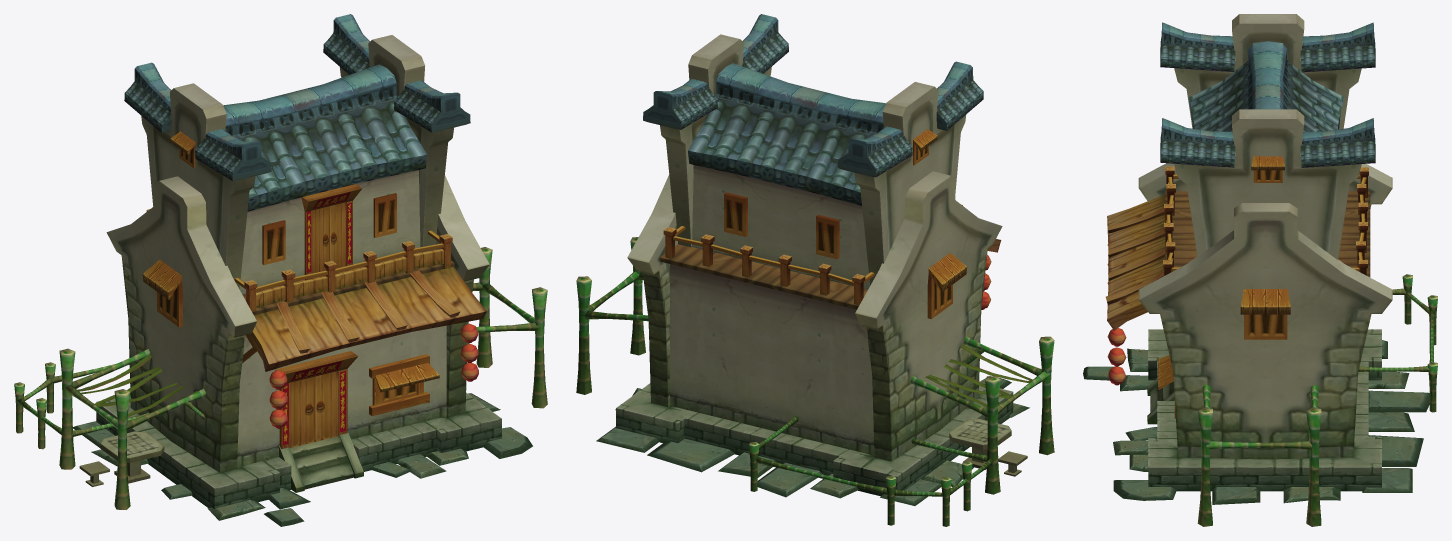
File: taoyuanzhen_cunzhangzhai_01.FBX
The picture shows the model from 3 angles, left to right: view 1: azimuth 30°, elevation 25°; view 2: azimuth 150°, elevation 25°; view 3: azimuth 270°, elevation 25°; orthographic projection. The views are drawn at different scales.
Parts seen in each view (by area): view 1: taoyuanzhen_cunzhangzhai_01; view 2: taoyuanzhen_cunzhangzhai_01; view 3: taoyuanzhen_cunzhangzhai_01.
Part boxes in pixels (box(x1,y1,x2,y2)): taoyuanzhen_cunzhangzhai_01: box(14, 14, 547, 526); taoyuanzhen_cunzhangzhai_01: box(576, 14, 1054, 526); taoyuanzhen_cunzhangzhai_01: box(1083, 14, 1437, 526).
Size of the model in its own units: 1553 by 1244 by 1124.
